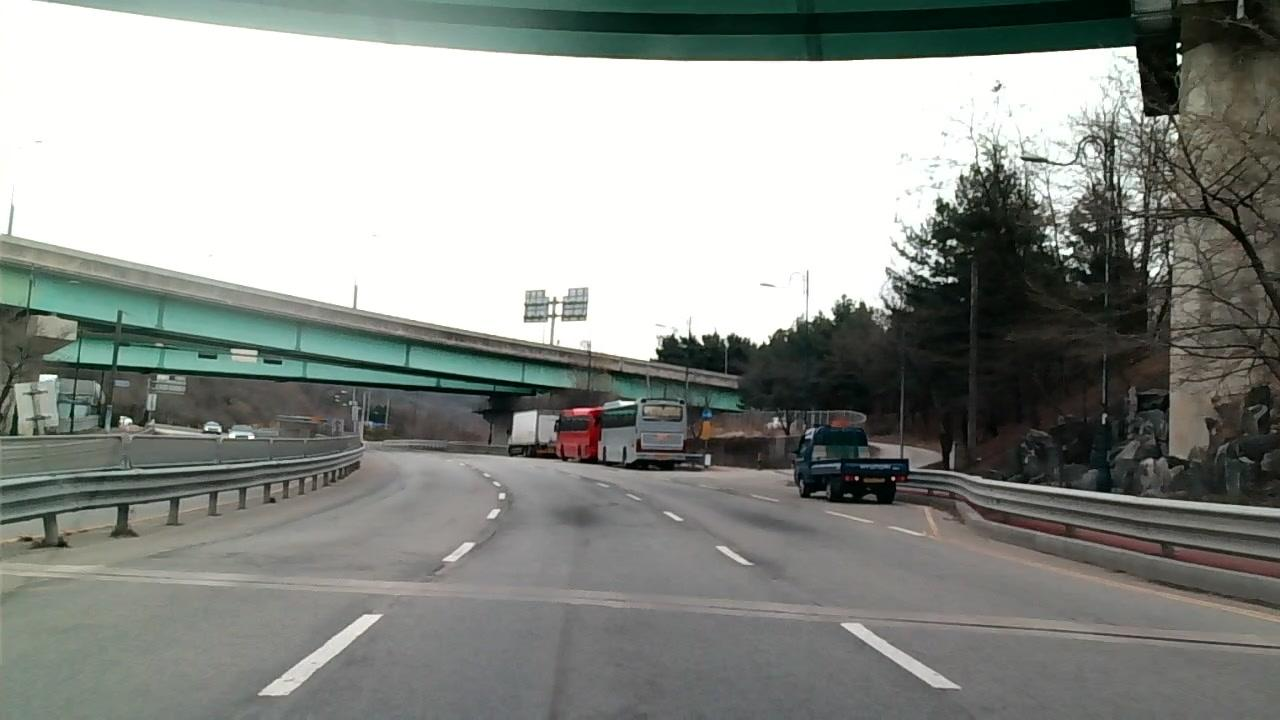banner: (1111, 633, 1280, 651), (800, 610, 954, 626), (958, 621, 1102, 638), (217, 575, 356, 591), (687, 604, 797, 615), (68, 570, 178, 581), (554, 595, 631, 604), (468, 529, 498, 550)
